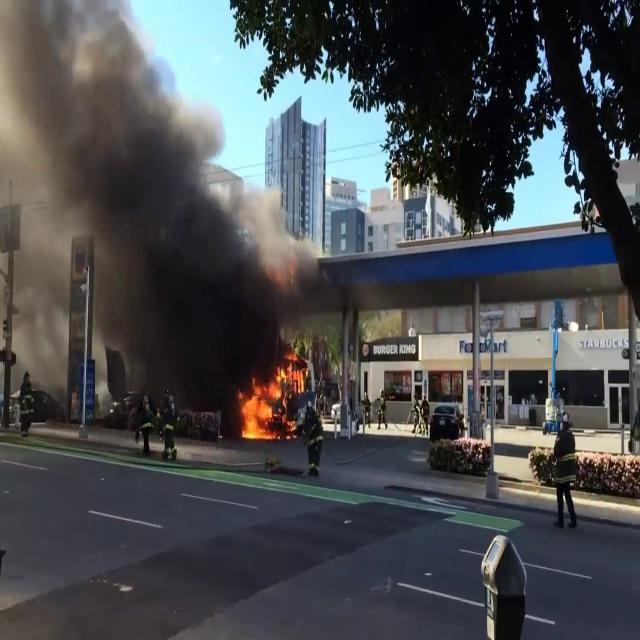Fire: (235, 350, 311, 440)
Smoke: (0, 0, 283, 398)
